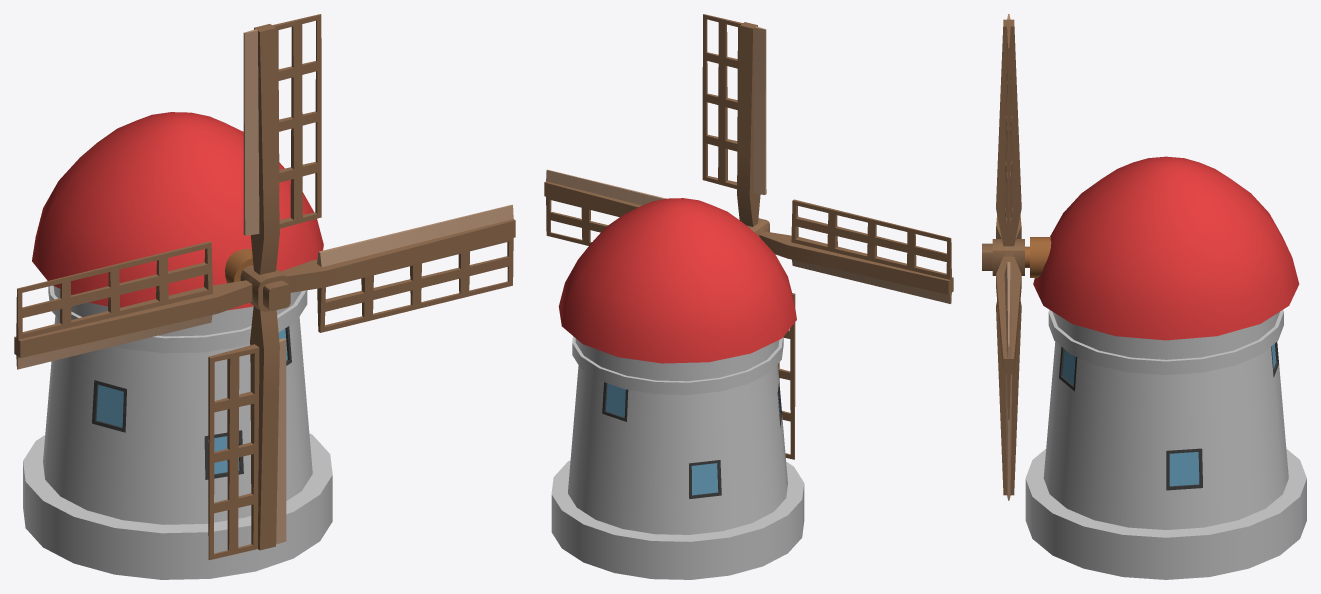
File: windmill.fbx
3 views of the same model, side by side, from view 1: azimuth 30°, elevation 25°; view 2: azimuth 150°, elevation 25°; view 3: azimuth 270°, elevation 25° (orthographic). The views are drawn at different scales.
Visible parts, largest first — view 1: Cylinder.010, Cube.003; view 2: Cylinder.010, Cube.003; view 3: Cylinder.010, Cube.003.
Part boxes in pixels (x1,y1,x2,y2): Cylinder.010: (23,112,332,579); Cube.003: (14,14,515,560); Cylinder.010: (551,198,804,579); Cube.003: (544,14,953,459); Cylinder.010: (1025,156,1306,579); Cube.003: (982,14,1024,500).
Size of the model in its own units: 1.73 by 1.84 by 1.09.
